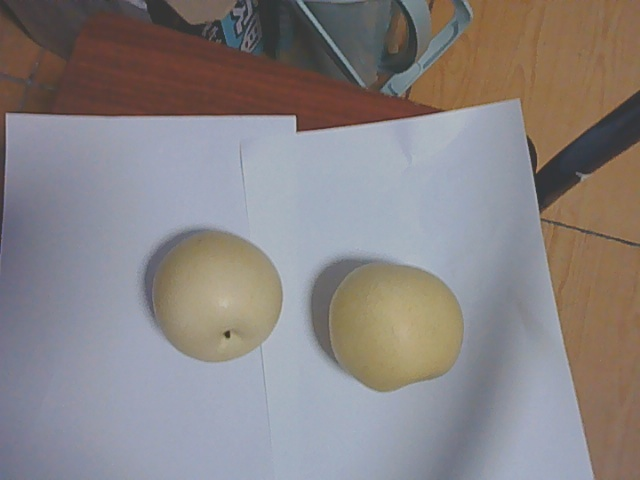pear: (145, 232, 286, 361), (326, 259, 465, 385)
